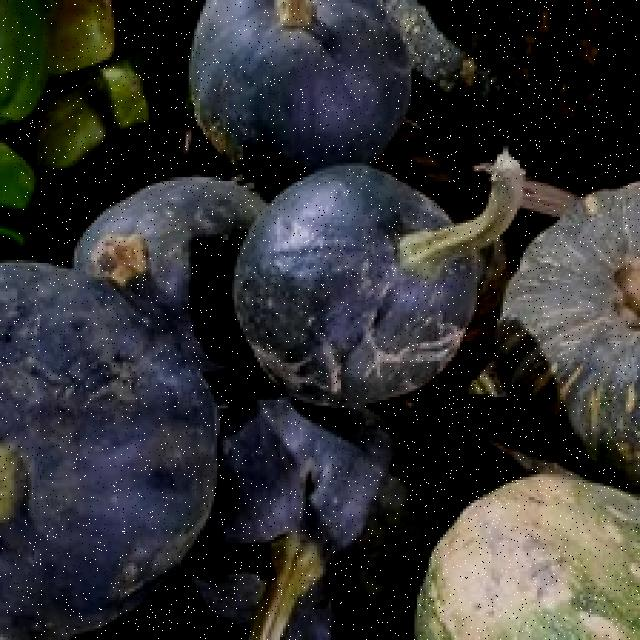Pumpkin: (0, 252, 240, 640), (414, 442, 640, 640), (157, 0, 406, 179), (523, 150, 640, 505)
